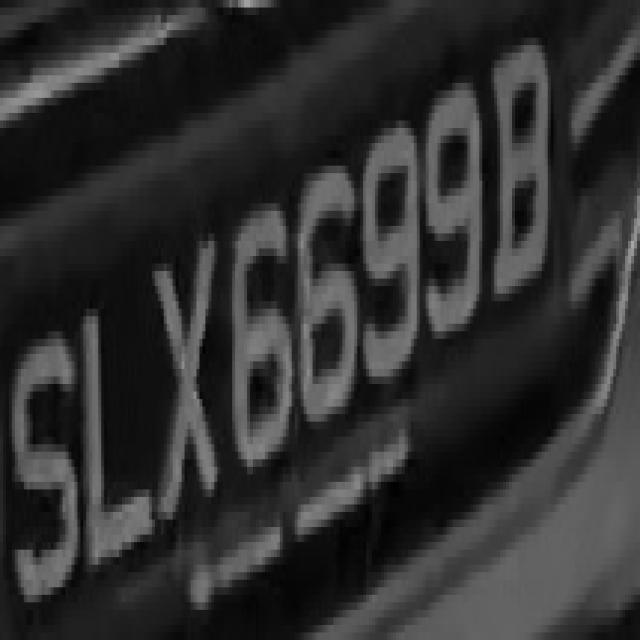6: (286, 143, 363, 444), (220, 173, 295, 482)
9: (357, 113, 429, 407), (414, 83, 485, 361)
B: (494, 15, 554, 331)
L: (74, 286, 161, 595)
S: (6, 316, 83, 625)
X: (152, 226, 220, 542)
